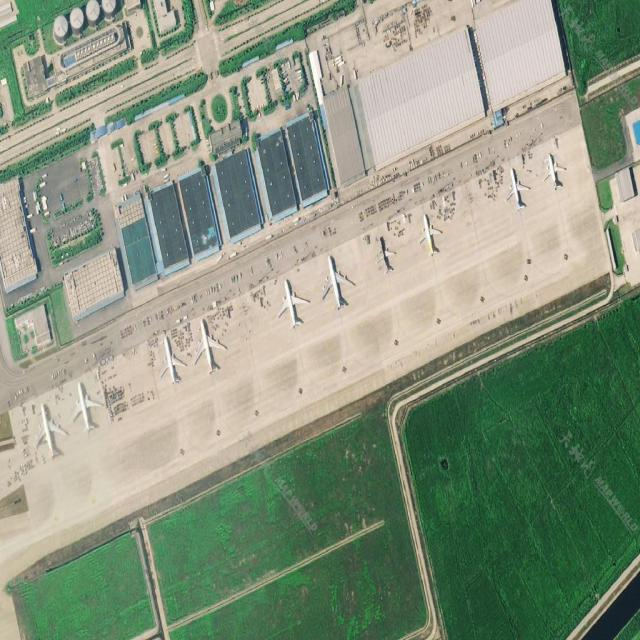aircraft: (33, 400, 71, 465), (321, 252, 358, 313), (192, 318, 229, 376), (69, 381, 105, 436), (277, 276, 312, 332), (159, 334, 189, 389), (505, 166, 534, 216), (418, 211, 445, 262), (543, 153, 569, 192), (375, 234, 399, 276)
